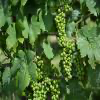grape leaf: (10, 49, 37, 95), (4, 16, 25, 52), (42, 36, 57, 61), (39, 9, 53, 33)
